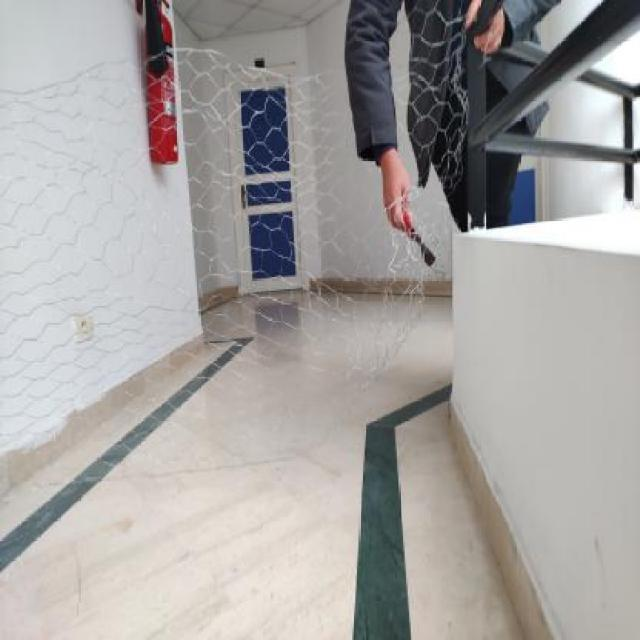fence line: (337, 228, 454, 447), (2, 40, 339, 109)
